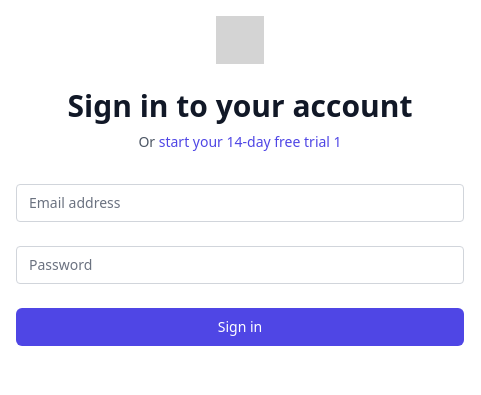
it: Login Test › Incorrect email!
The width and height of the screenshot is (481, 395).
Type "test@" into the field with class "appearance-none" showing "Email address" at (240, 203), box top-left (16, 184), bottom-right (464, 222)
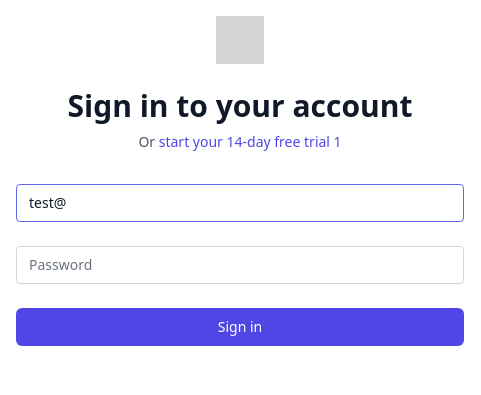
Click the button with id "login-btn" at (240, 327), box top-left (16, 308), bottom-right (464, 346)
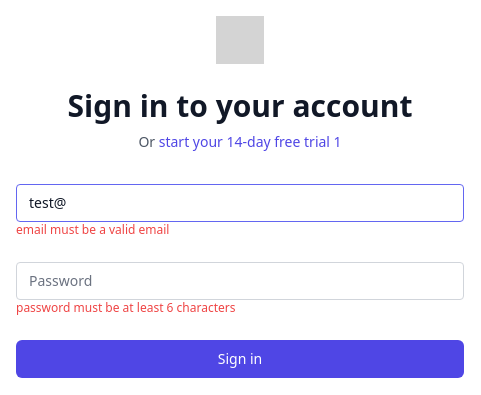
Result: the text "email must be a valid email" is shown at top-left (16, 221), bottom-right (169, 238)
